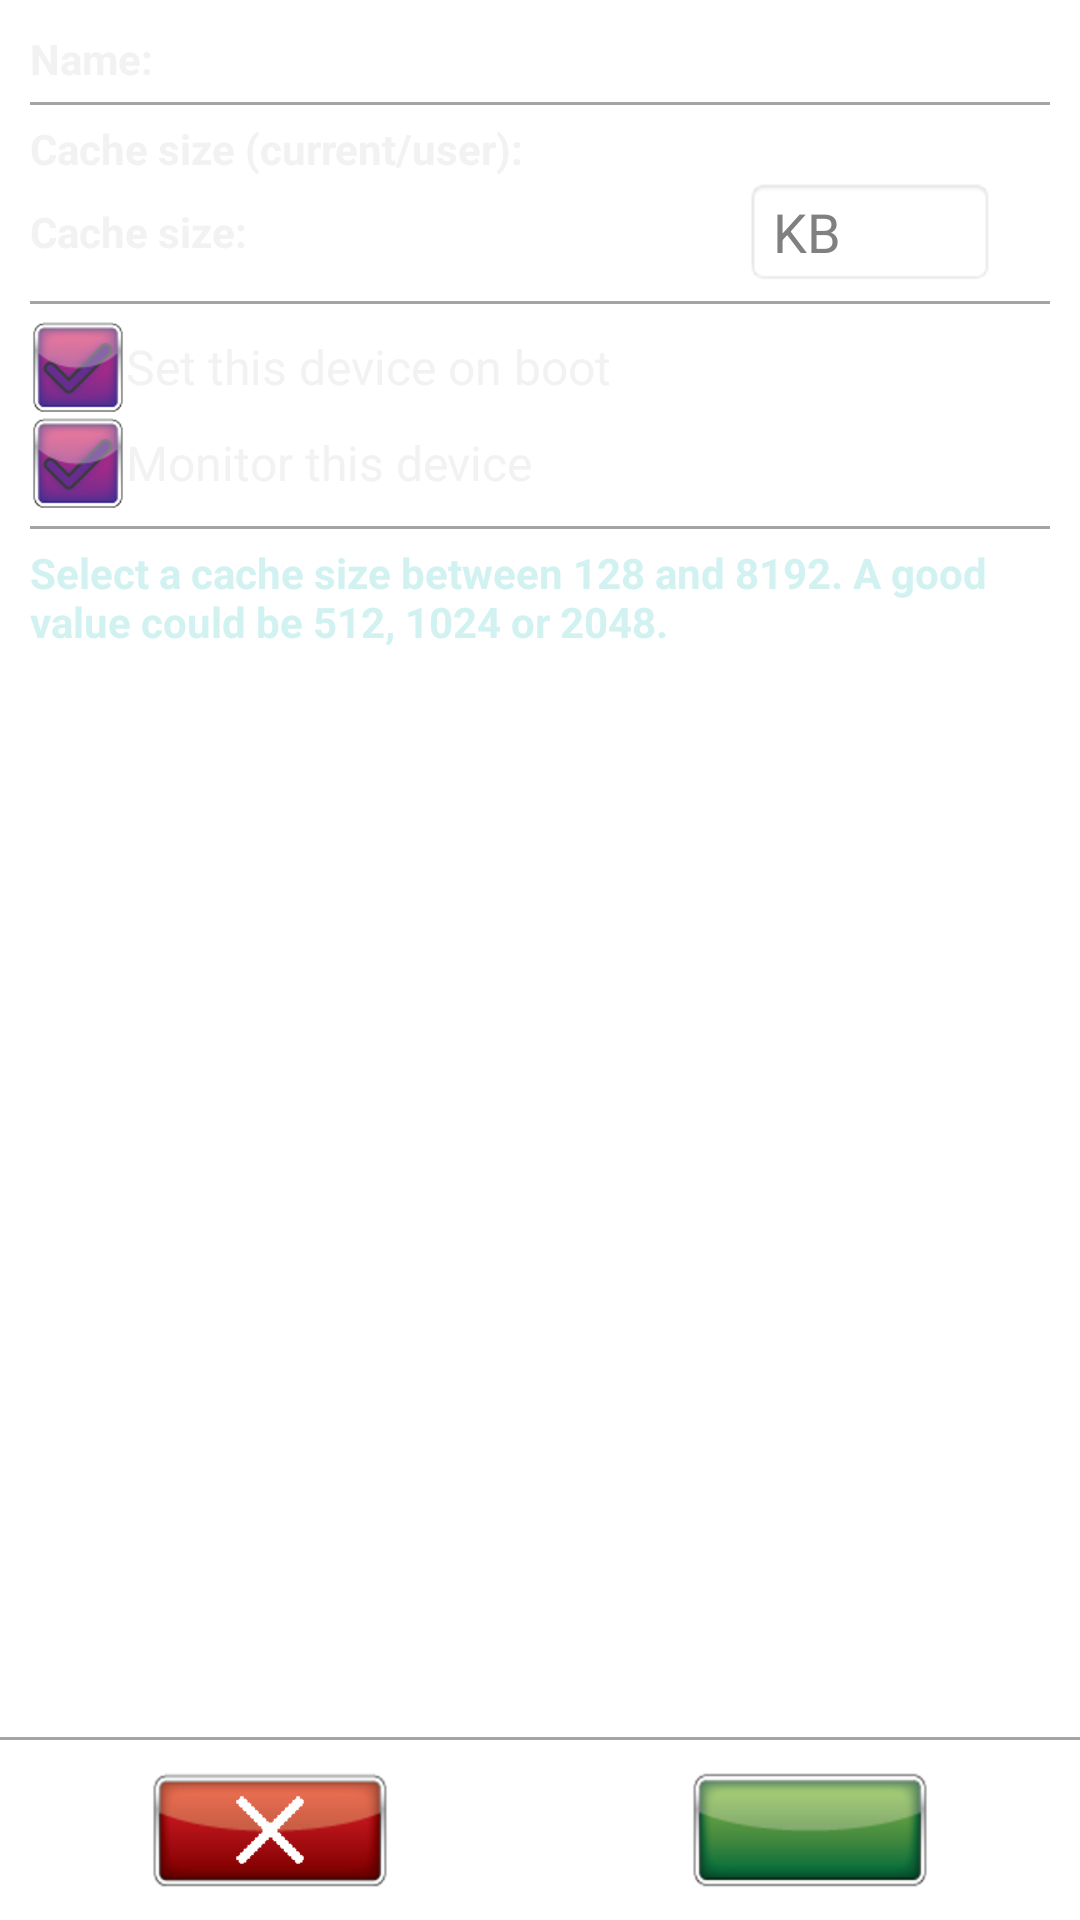

Locate icon controls on the screen. Image size 1080 × 1920, boxes as BBox(x1, y1, x2, y2).
cancel: BBox(153, 1774, 387, 1887)
